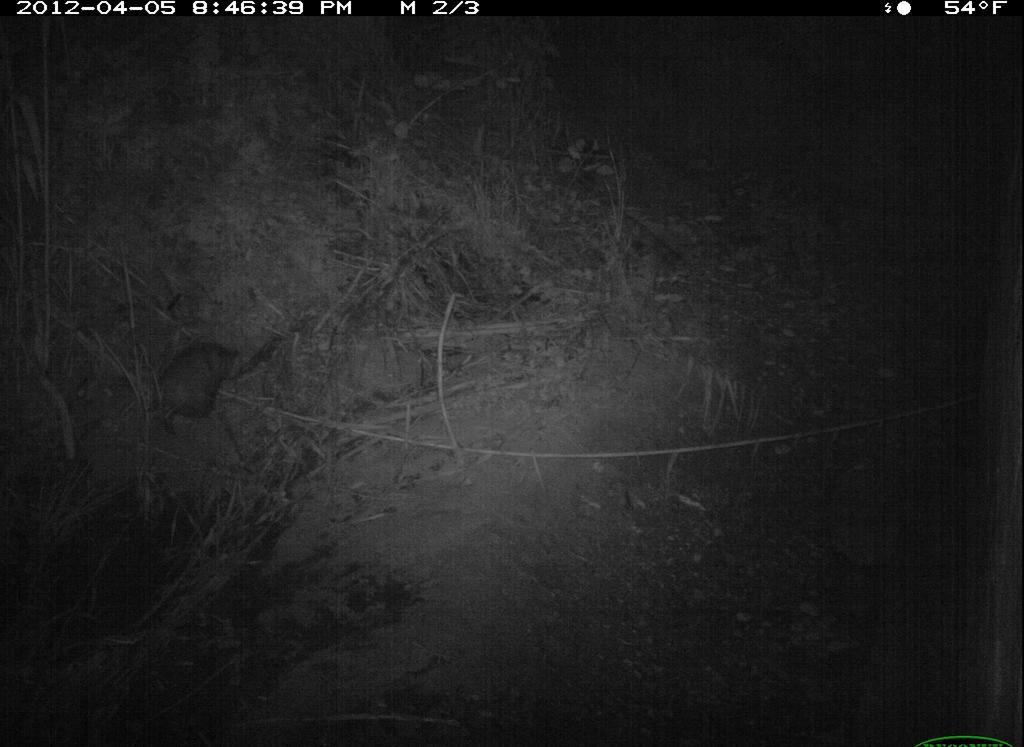opossum: (148, 331, 249, 437)
